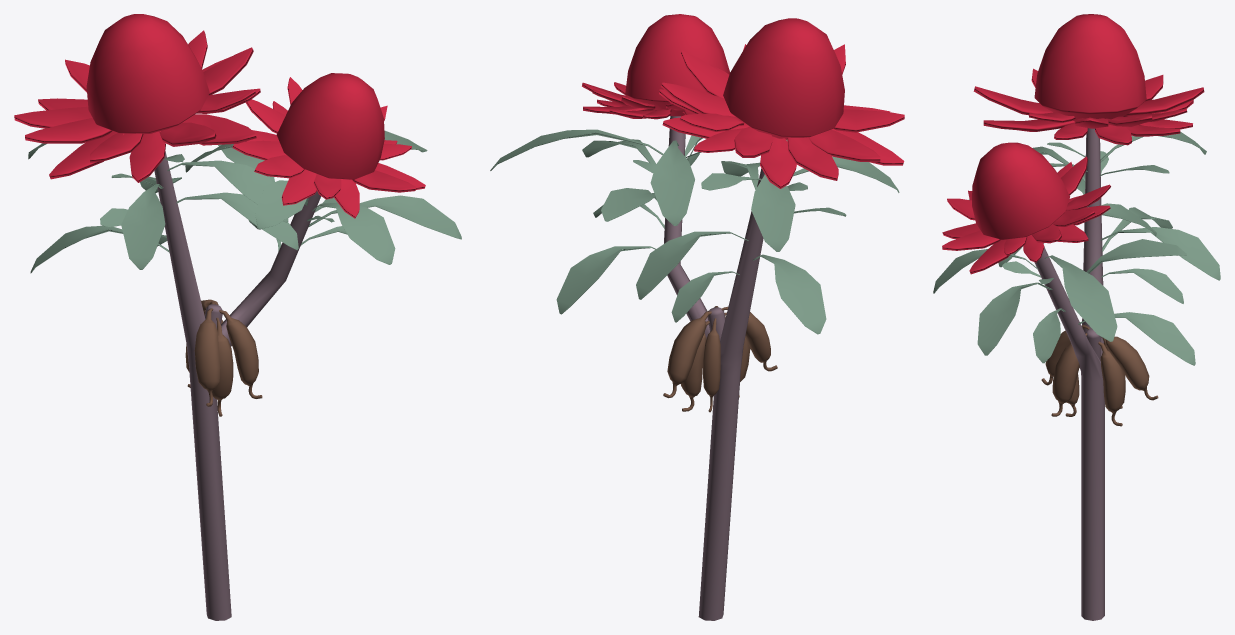
Rendered from MODEL_waratahgrown_G4_1.fbx.
The picture shows the model from 3 angles, left to right: view 1: azimuth 30°, elevation 25°; view 2: azimuth 150°, elevation 25°; view 3: azimuth 270°, elevation 25°; orthographic projection. The views are drawn at different scales.
Visible parts, largest first — view 1: Geo_stem1, pSphere1, pSphere2, Geo_leaf5, Geo_leaf19, Geo_leaf17, Geo_seedpods4, Geo_seedpods1, Geo_leaf6, pCube10, Geo_leaf22, Geo_leaf11 (+16 smaller); view 2: pSphere1, Geo_stem1, pSphere2, Geo_leaf2, Geo_leaf12, Geo_leaf4, Geo_leaf9, Geo_leaf14, Geo_seedpods5, pCube22, pCube10, pCube20 (+17 smaller); view 3: Geo_stem1, pSphere1, pSphere2, Geo_leaf18, Geo_leaf17, Geo_leaf14, Geo_leaf9, Geo_seedpods5, Geo_seedpods2, Geo_leaf13, Geo_seedpods1, Geo_leaf15 (+17 smaller).
Part boxes in pixels (x1,y1,x2,y2): Geo_stem1: (154, 151, 321, 620); pSphere1: (86, 14, 209, 133); pSphere2: (276, 73, 384, 179); Geo_leaf5: (121, 184, 165, 269); Geo_leaf19: (312, 202, 395, 264); Geo_leaf17: (308, 195, 461, 239); Geo_seedpods4: (194, 308, 220, 406); Geo_seedpods1: (219, 310, 262, 398); Geo_leaf6: (167, 160, 288, 222); pCube10: (25, 118, 112, 143); Geo_leaf22: (255, 180, 308, 229); Geo_leaf11: (176, 192, 298, 250); pSphere1: (723, 18, 844, 139); Geo_stem1: (664, 116, 764, 620); pSphere2: (625, 14, 729, 116); Geo_leaf2: (752, 254, 826, 334); Geo_leaf12: (650, 140, 694, 225); Geo_leaf4: (751, 174, 795, 251); Geo_leaf9: (636, 231, 748, 299); Geo_leaf14: (556, 246, 655, 314); Geo_seedpods5: (663, 311, 711, 398); pCube22: (787, 137, 838, 180); pCube10: (808, 129, 880, 161); pCube20: (760, 136, 796, 188); Geo_stem1: (1034, 128, 1104, 620); pSphere1: (1034, 14, 1146, 128); pSphere2: (972, 142, 1069, 239); Geo_leaf18: (1044, 255, 1117, 341); Geo_leaf17: (977, 282, 1052, 355); Geo_leaf14: (1078, 312, 1195, 365); Geo_leaf9: (1100, 227, 1220, 280); Geo_seedpods5: (1105, 336, 1158, 400); Geo_seedpods2: (1098, 341, 1125, 426); Geo_leaf13: (1086, 239, 1186, 273); Geo_seedpods1: (1051, 333, 1087, 416); Geo_leaf15: (1033, 308, 1065, 363).
Bounding box in the file's own units: 21.26 × 31.68 × 14.68.
